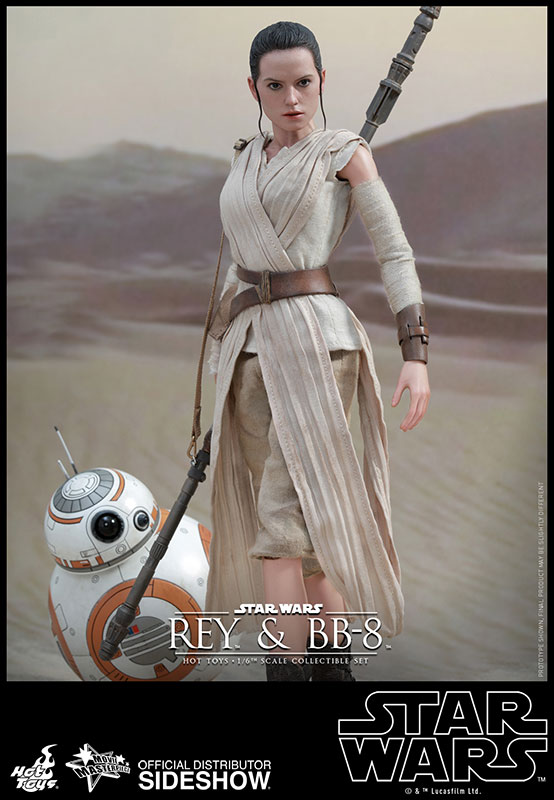bb8: (44, 467, 213, 680)
